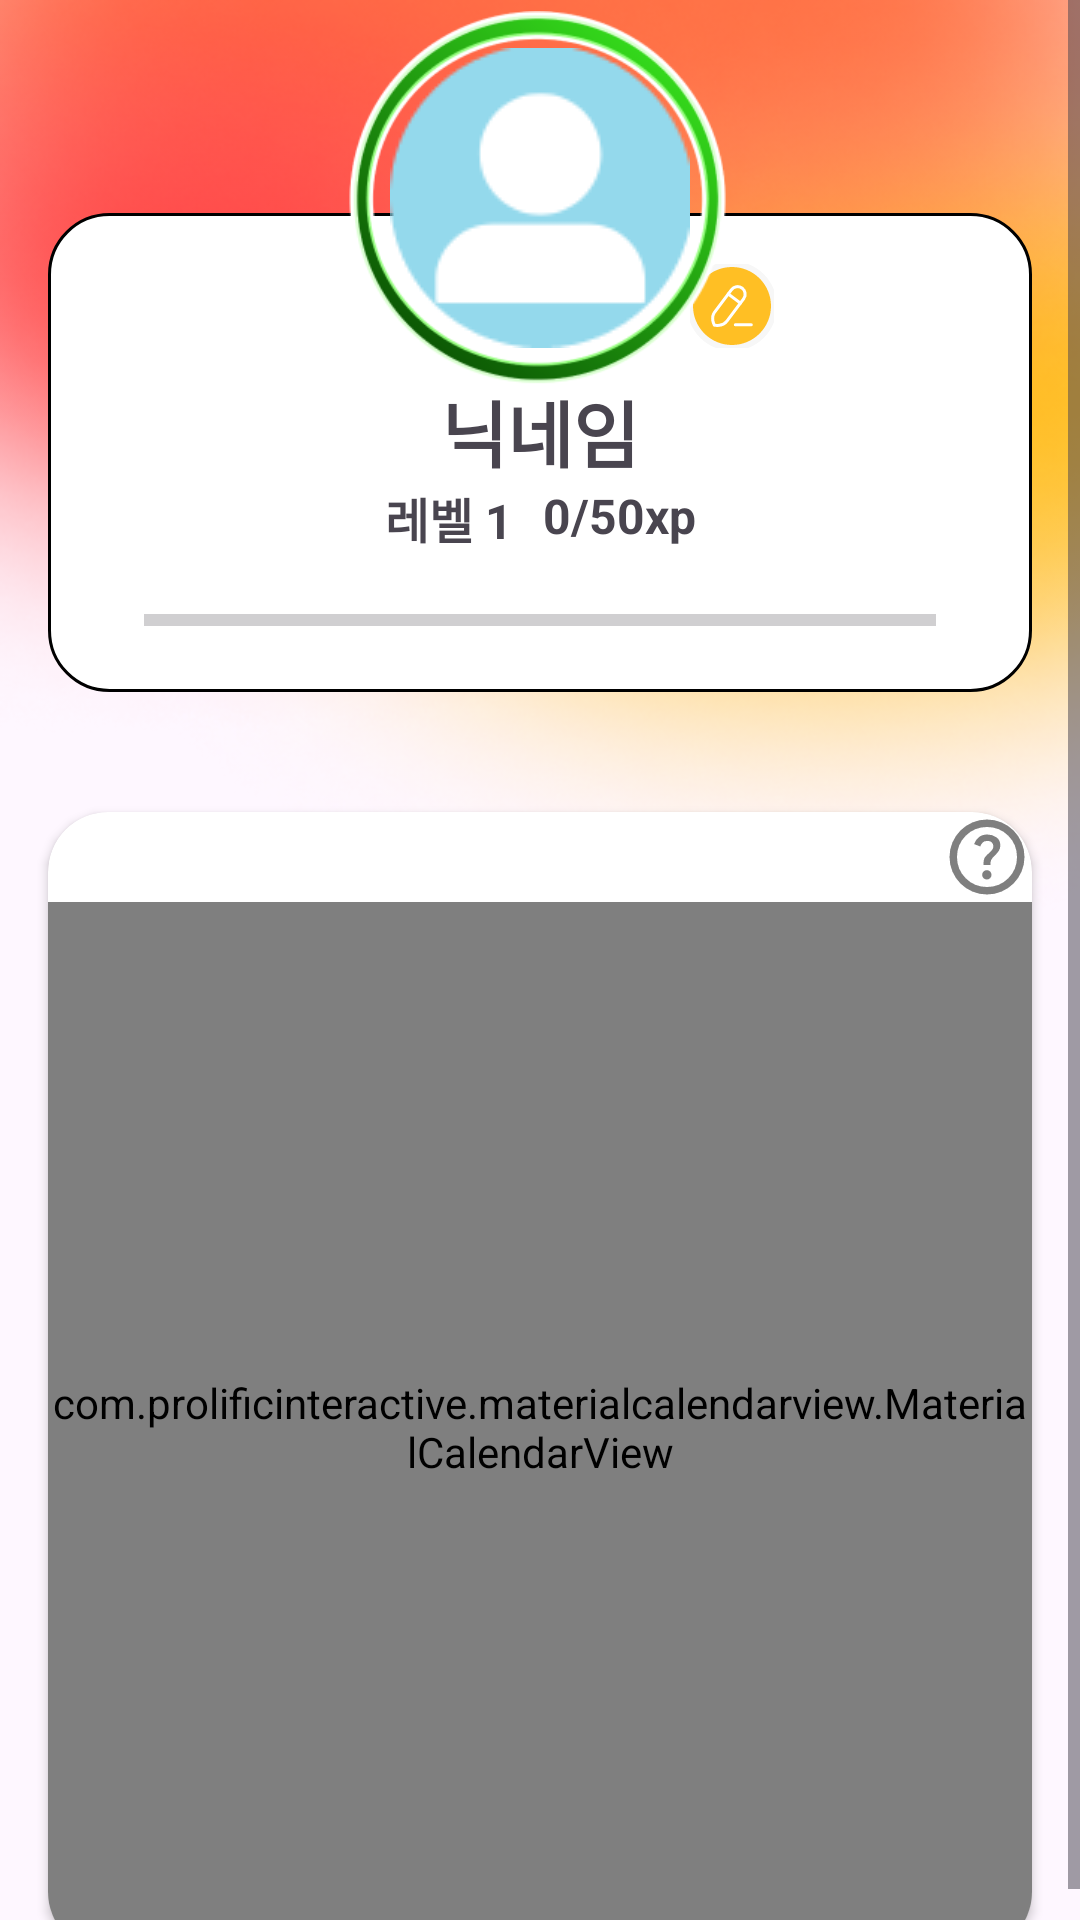

Named icons in this screenshot (1080w x 1920h) and their centers, [x,y]:
question mark: [987,857]
